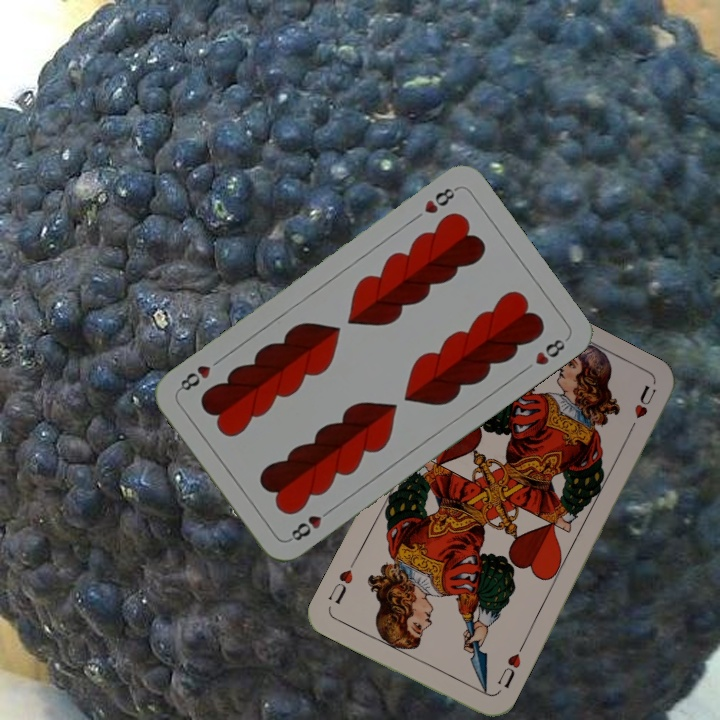H8: (284, 504, 335, 544), (420, 183, 460, 217)
HU: (493, 642, 526, 691)
